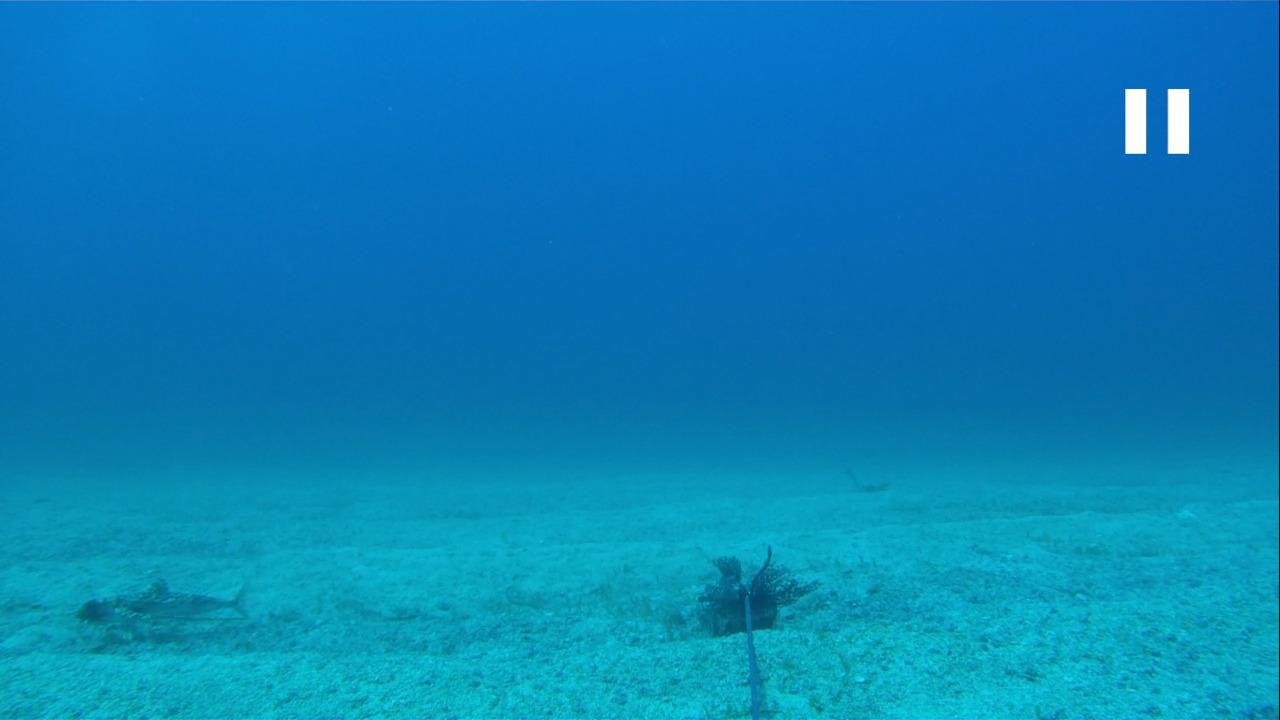dactylopterus: (75, 573, 258, 639)
